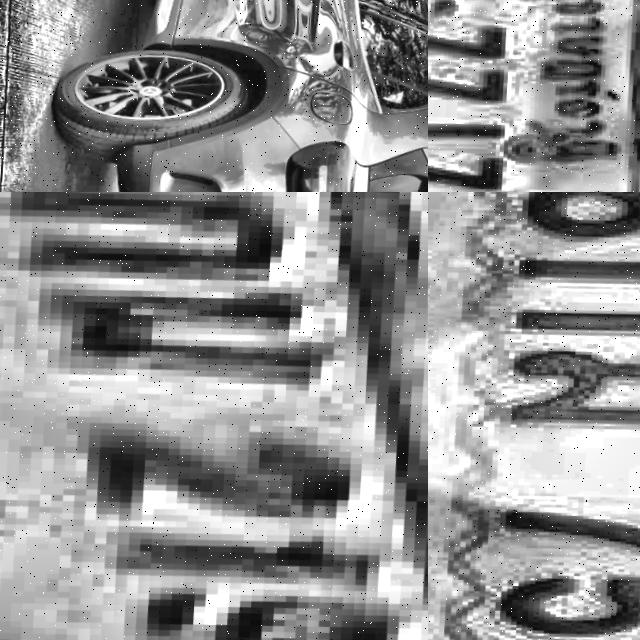license-plate: (0, 192, 428, 640), (428, 192, 640, 640), (428, 0, 640, 192)
